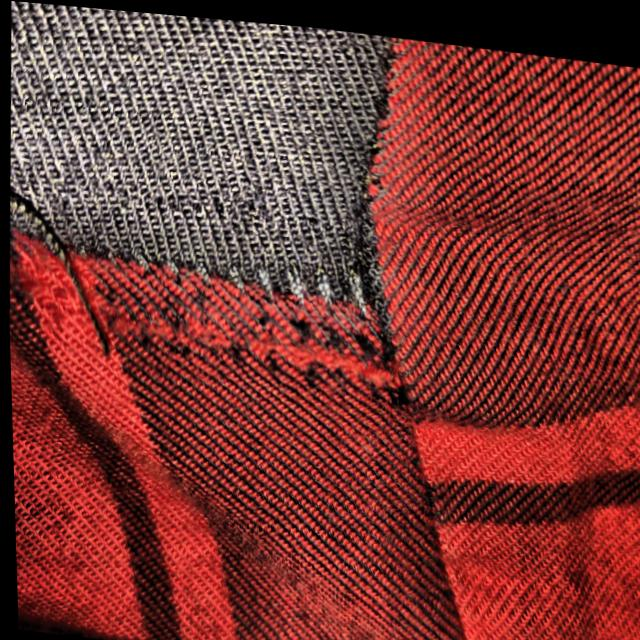Stitch: (7, 183, 421, 413)
